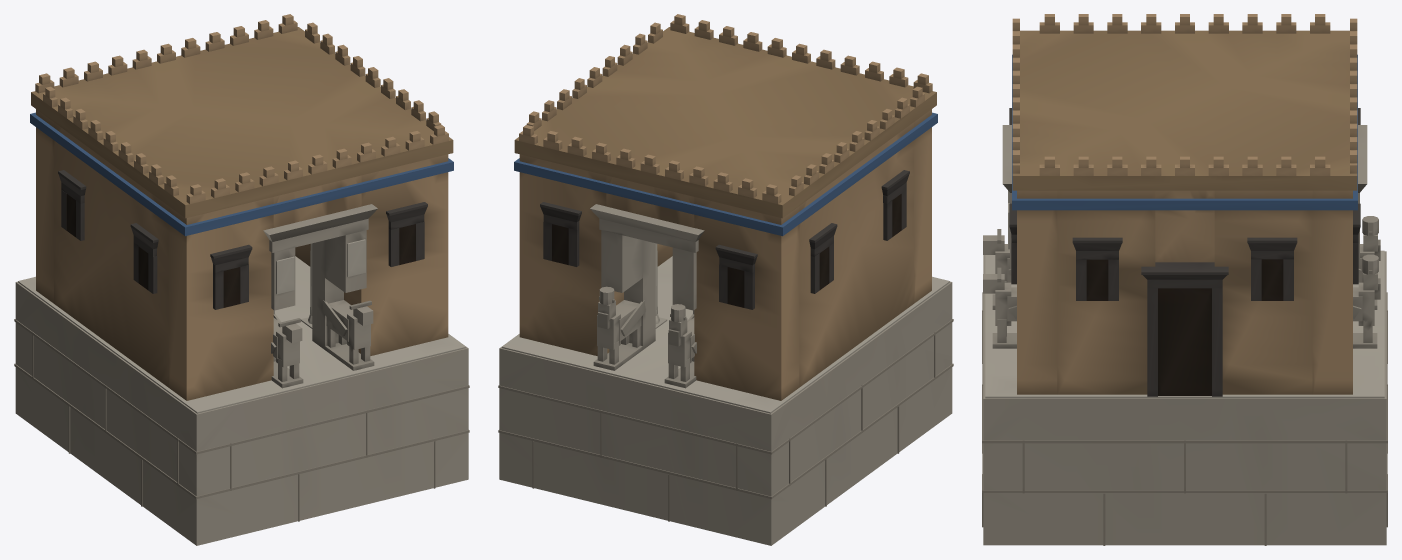
File: gate-all-nations.glb
3 renders of one model, left to right at view 1: azimuth 30°, elevation 25°; view 2: azimuth 150°, elevation 25°; view 3: azimuth 270°, elevation 25°, orthographic. The views are drawn at different scales.
Parts seen in each view (by area): view 1: p1_gate, p0_terrace, p2_roof; view 2: p1_gate, p0_terrace, p2_roof; view 3: p1_gate, p0_terrace, p2_roof.
Boxes of the visible parts, x1=… form: p1_gate: x1=36, y1=109, x2=448, y2=400; p0_terrace: x1=14, y1=256, x2=469, y2=545; p2_roof: x1=30, y1=14, x2=453, y2=236; p1_gate: x1=519, y1=109, x2=931, y2=400; p0_terrace: x1=498, y1=256, x2=953, y2=545; p2_roof: x1=514, y1=14, x2=937, y2=236; p1_gate: x1=983, y1=108, x2=1380, y2=396; p0_terrace: x1=982, y1=250, x2=1387, y2=545; p2_roof: x1=1012, y1=14, x2=1357, y2=210.
Size of the model in its own units: 26.57 by 31.56 by 30.16.
